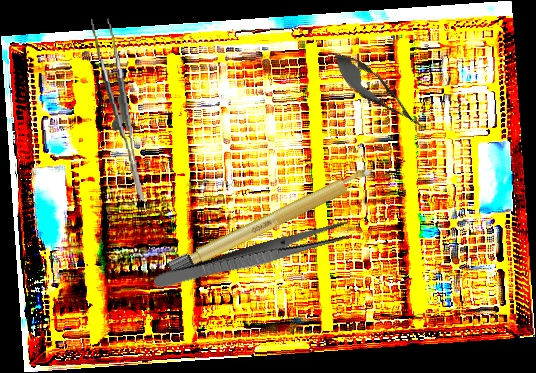Dressing Forceps: (152, 218, 353, 295)
Micro Scissor: (323, 43, 436, 142)
Scalpel Handle: (164, 162, 381, 280)
Tissue Forceps: (91, 15, 144, 204)
